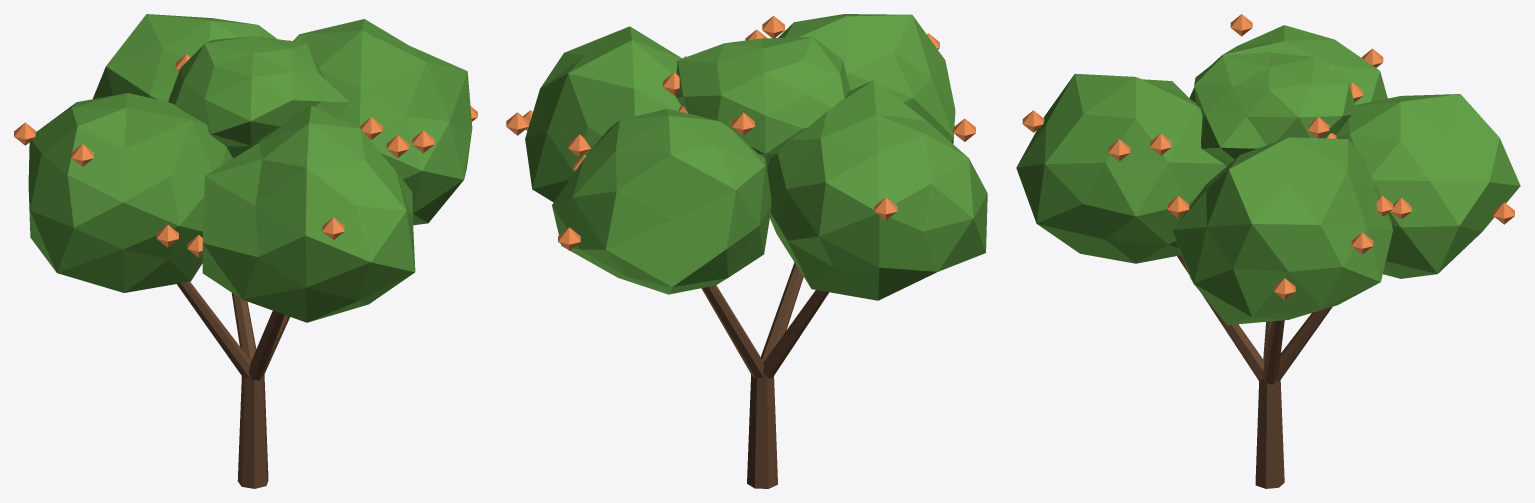
The model's file is peach_tree.glb.
3 renders of one model, left to right at view 1: azimuth 30°, elevation 25°; view 2: azimuth 150°, elevation 25°; view 3: azimuth 270°, elevation 25°, orthographic. The views are drawn at different scales.
Parts seen in each view (by area): view 1: peach_tree; view 2: peach_tree; view 3: peach_tree.
Boxes of the visible parts, x1,y1,x2,y2 form: peach_tree: (14, 14, 477, 488); peach_tree: (506, 14, 987, 488); peach_tree: (1016, 14, 1520, 488).
Size of the model in its own units: 3.6 by 3.29 by 3.63.
